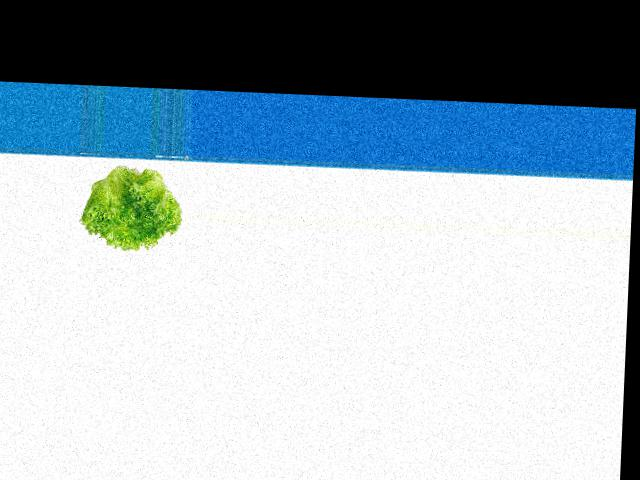lettuce: (81, 158, 184, 255)
